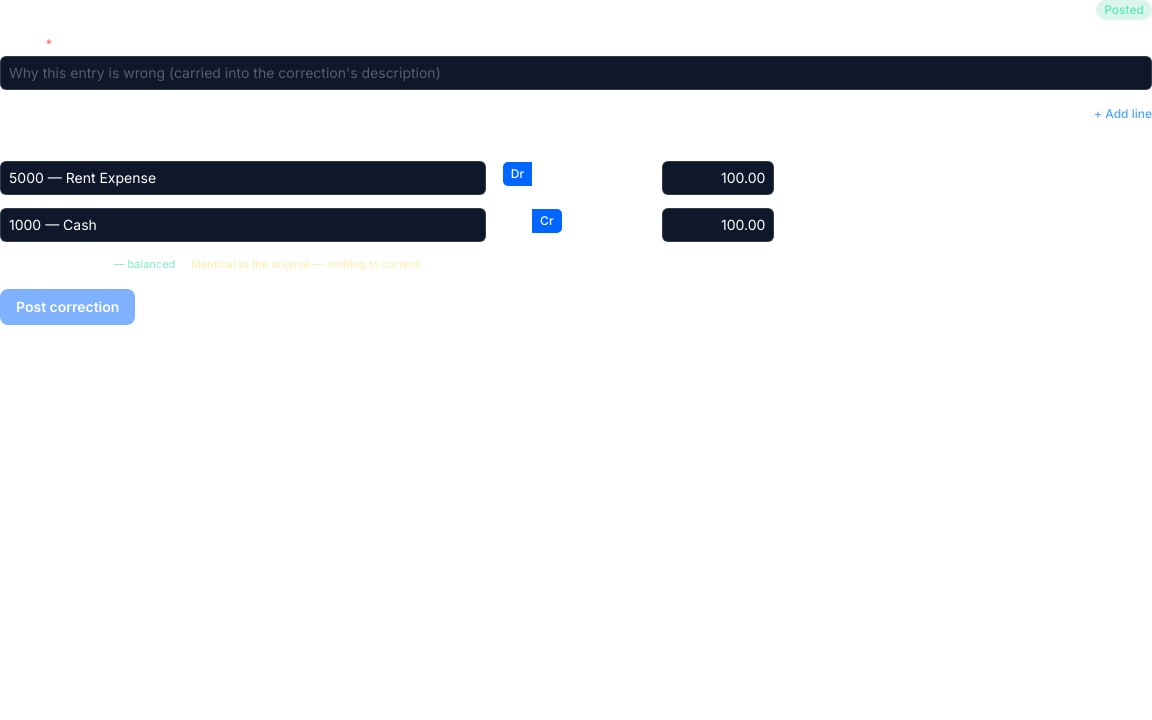
Test: PostedCorrectionEditor — live entry only (D-S85-13) › shows any other refusal with the server's detail and keeps the editor open
Click the dropdown named "Account" in the row of "Office rent" at (243, 178), box [0,161,486,195]
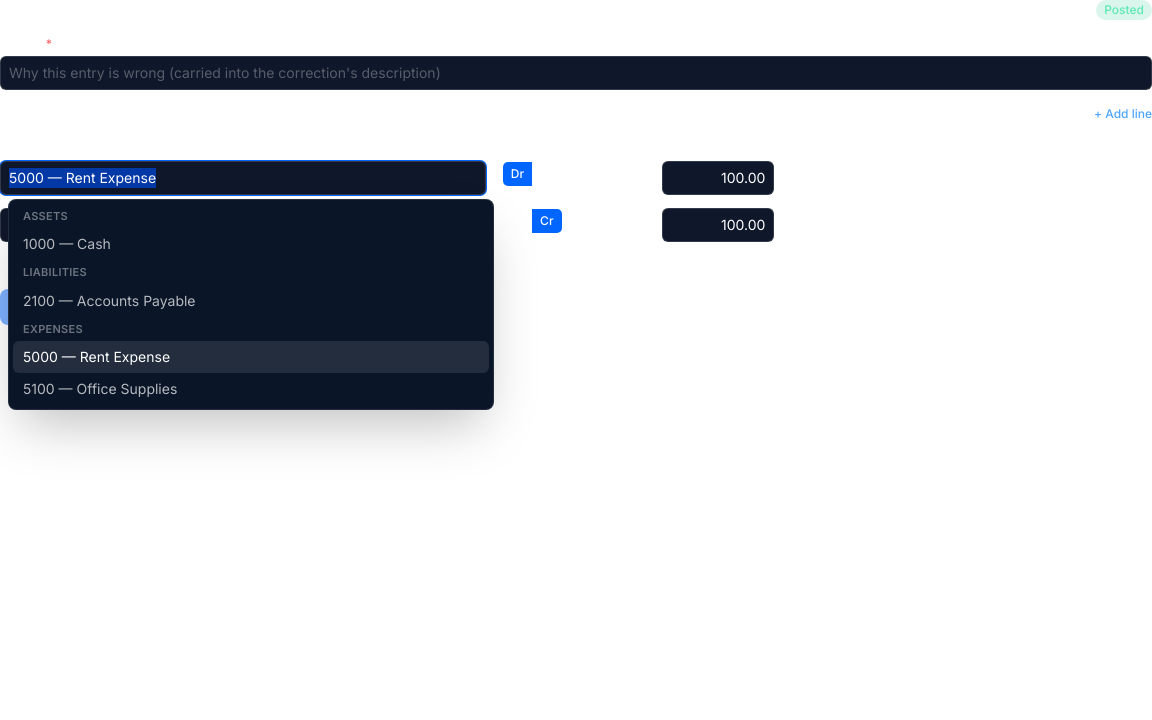
Type keys "5100{Enter}"
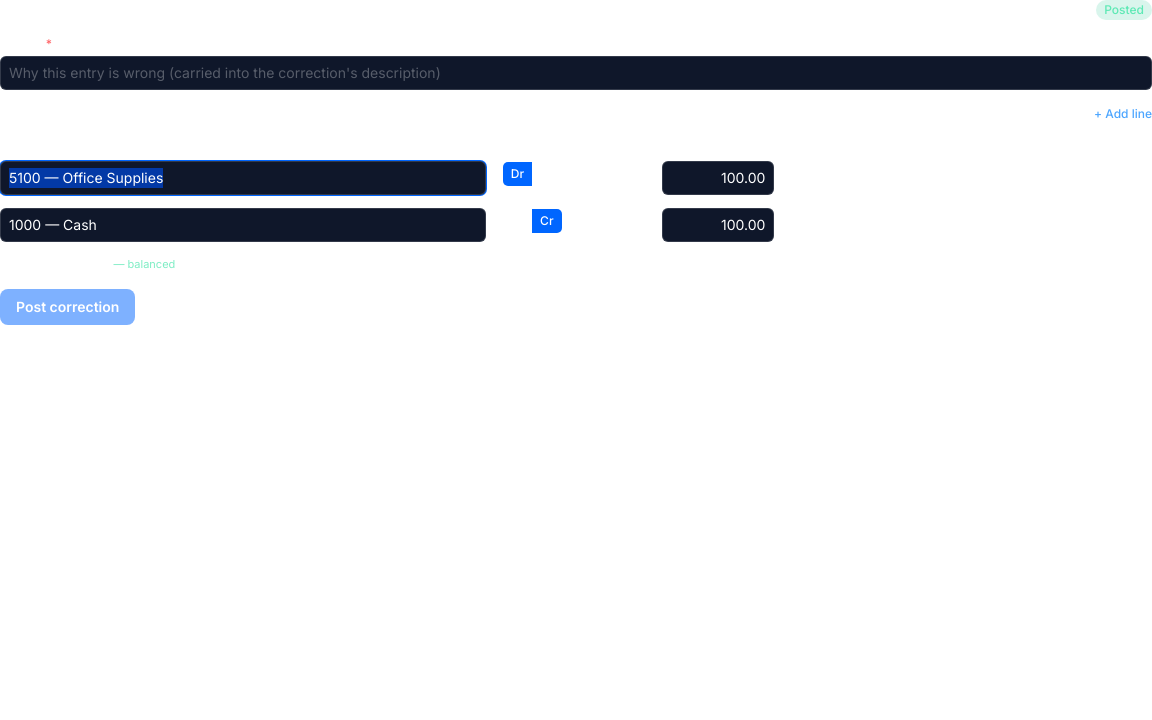
Type "Coded to the wrong expense account" into the field with placeholder "Why this entry is wrong" at (576, 73), box [0,56,1151,90]
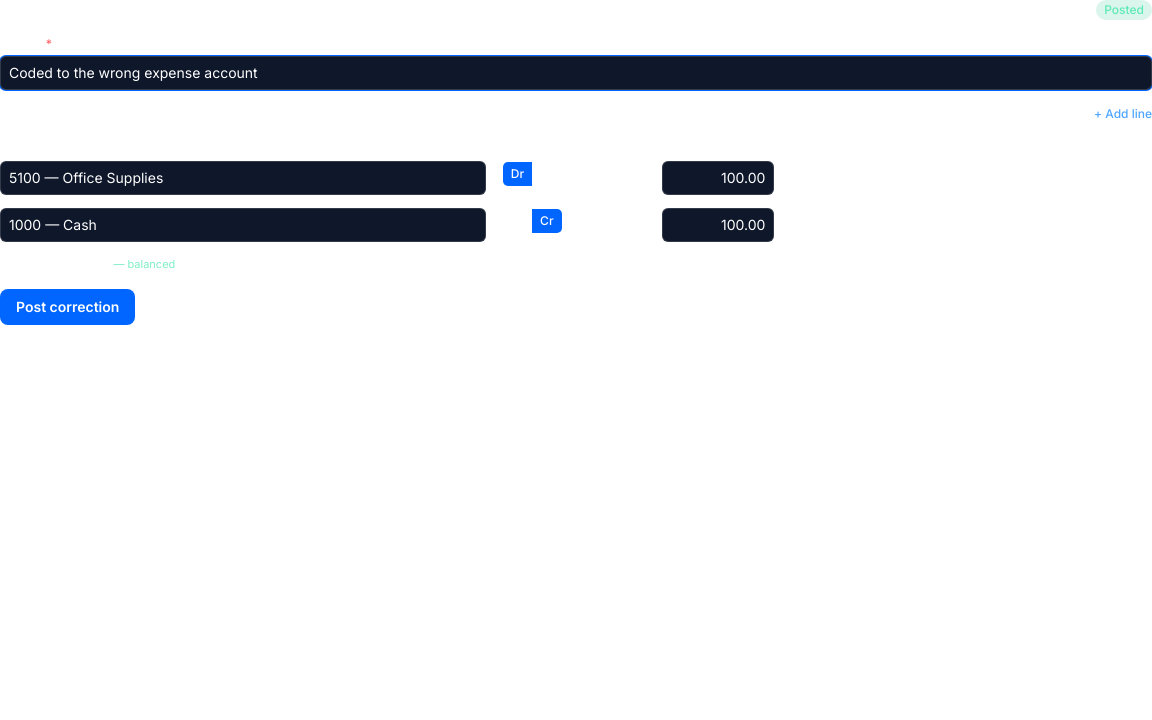
Click the button "Post correction" at (68, 307), box [0,289,135,325]
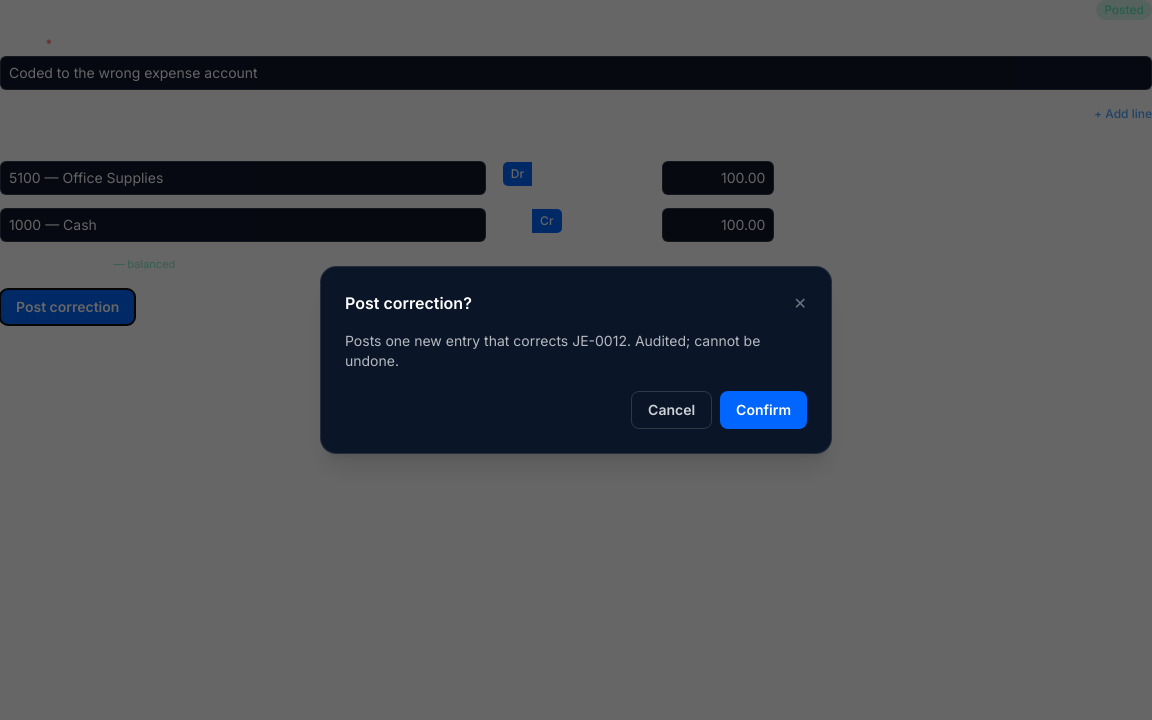
Click the button "Confirm" at (764, 410), box [720,391,807,429]
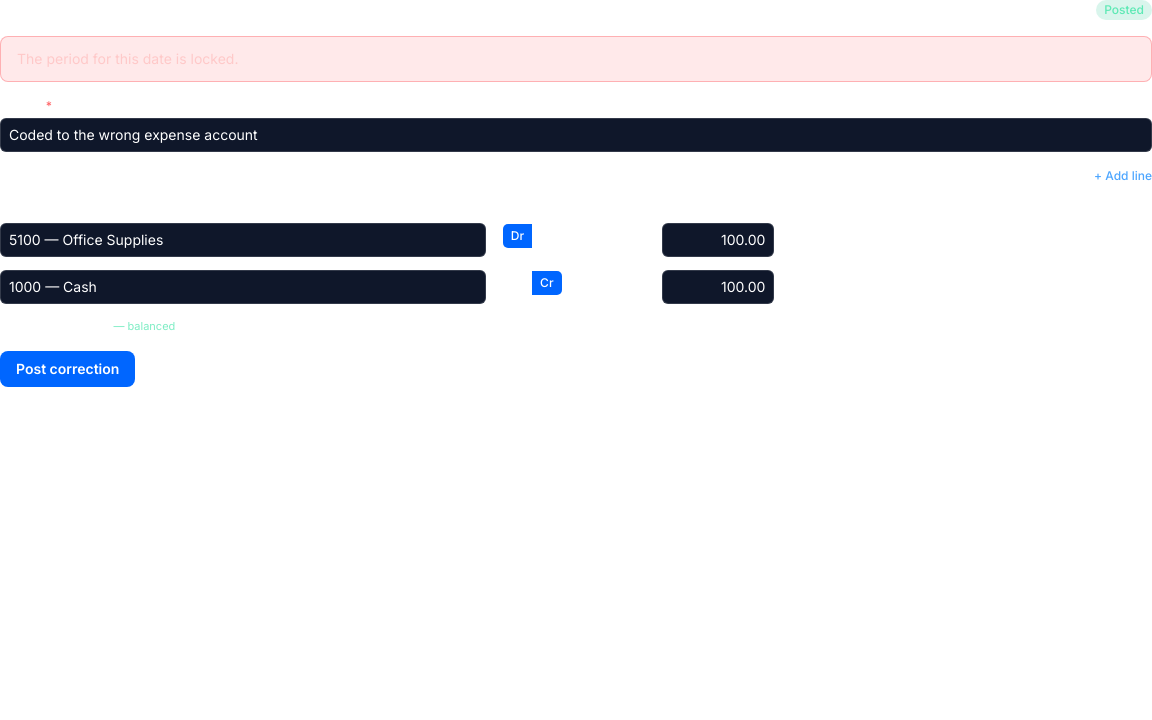
Expected: the text "The period for this date is locked." is shown, [17,49,238,69]
